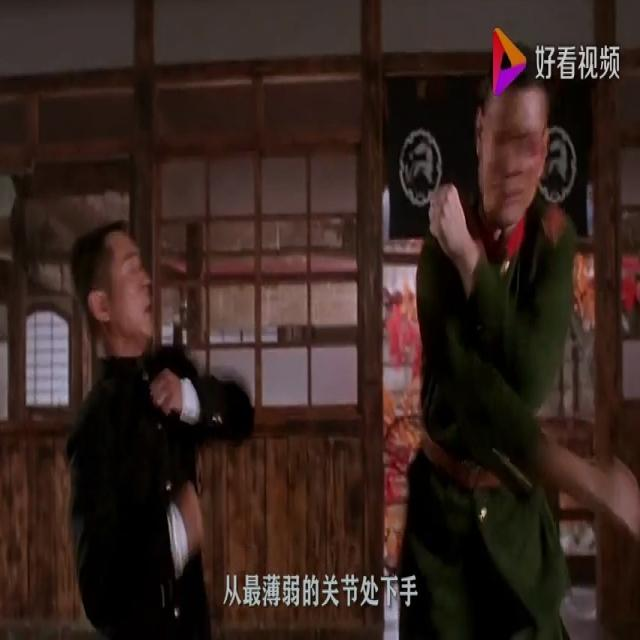fight: (18, 0, 627, 639)
